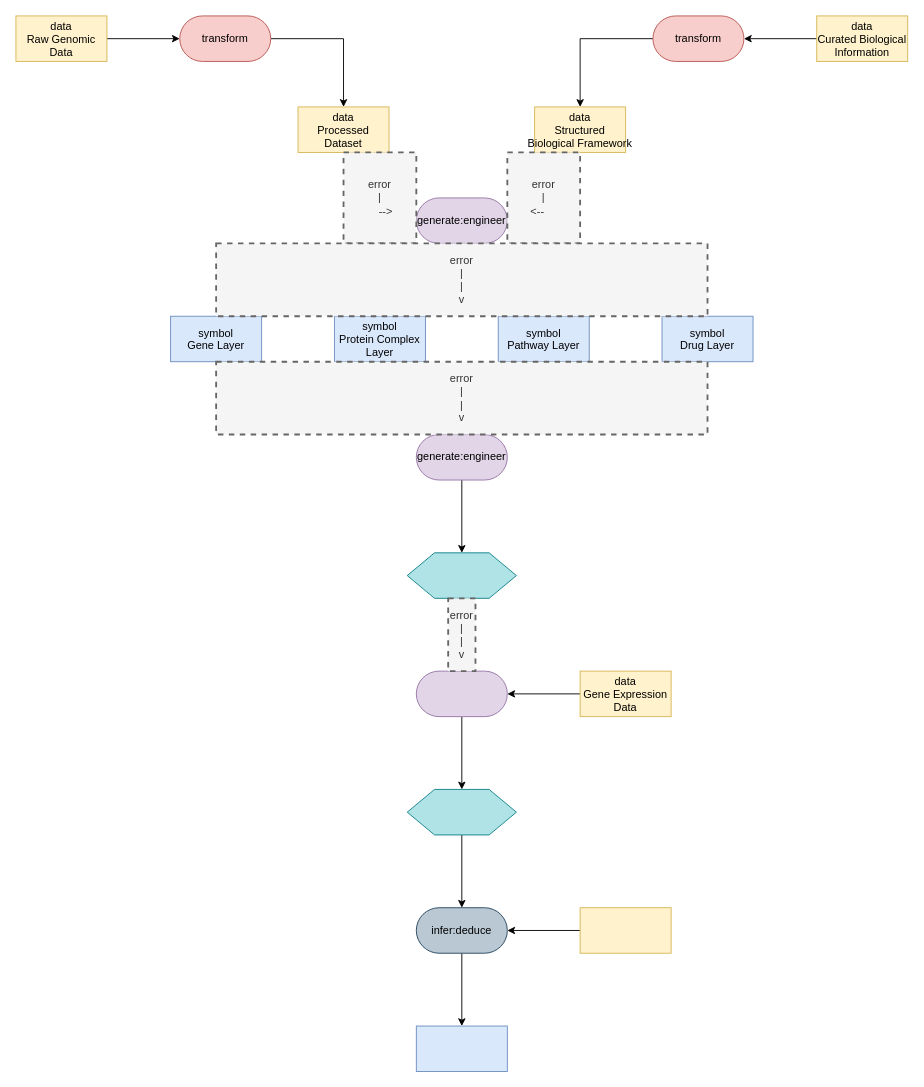
Image size: 924x1087. Some labels were removed from this diagram. The shapes that lost their labels are listed below. From the top down, each one's box as (x1, y1, x2, y2) in pixels, then its label:
(406, 552, 516, 598): model:hybrid Fully Connected Network
(415, 670, 507, 717): generate:train
(406, 789, 516, 835): model:hybrid Refined Model
(579, 907, 671, 953): data New Genomic Data
(415, 1025, 507, 1072): symbol Predicted Drug Response
